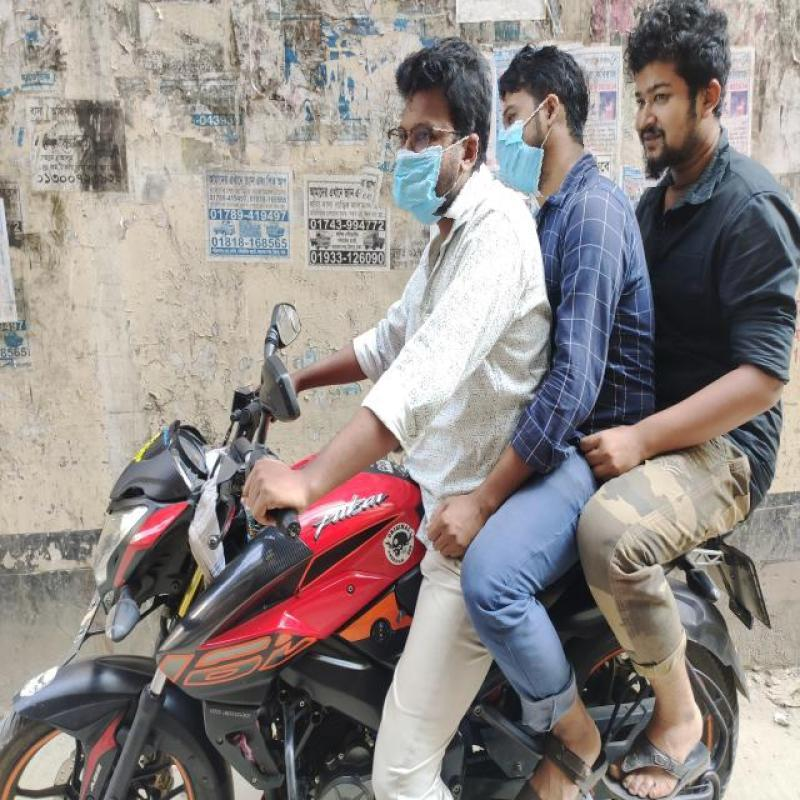nohelmet: (364, 34, 493, 218), (622, 0, 728, 186), (497, 36, 596, 198)
